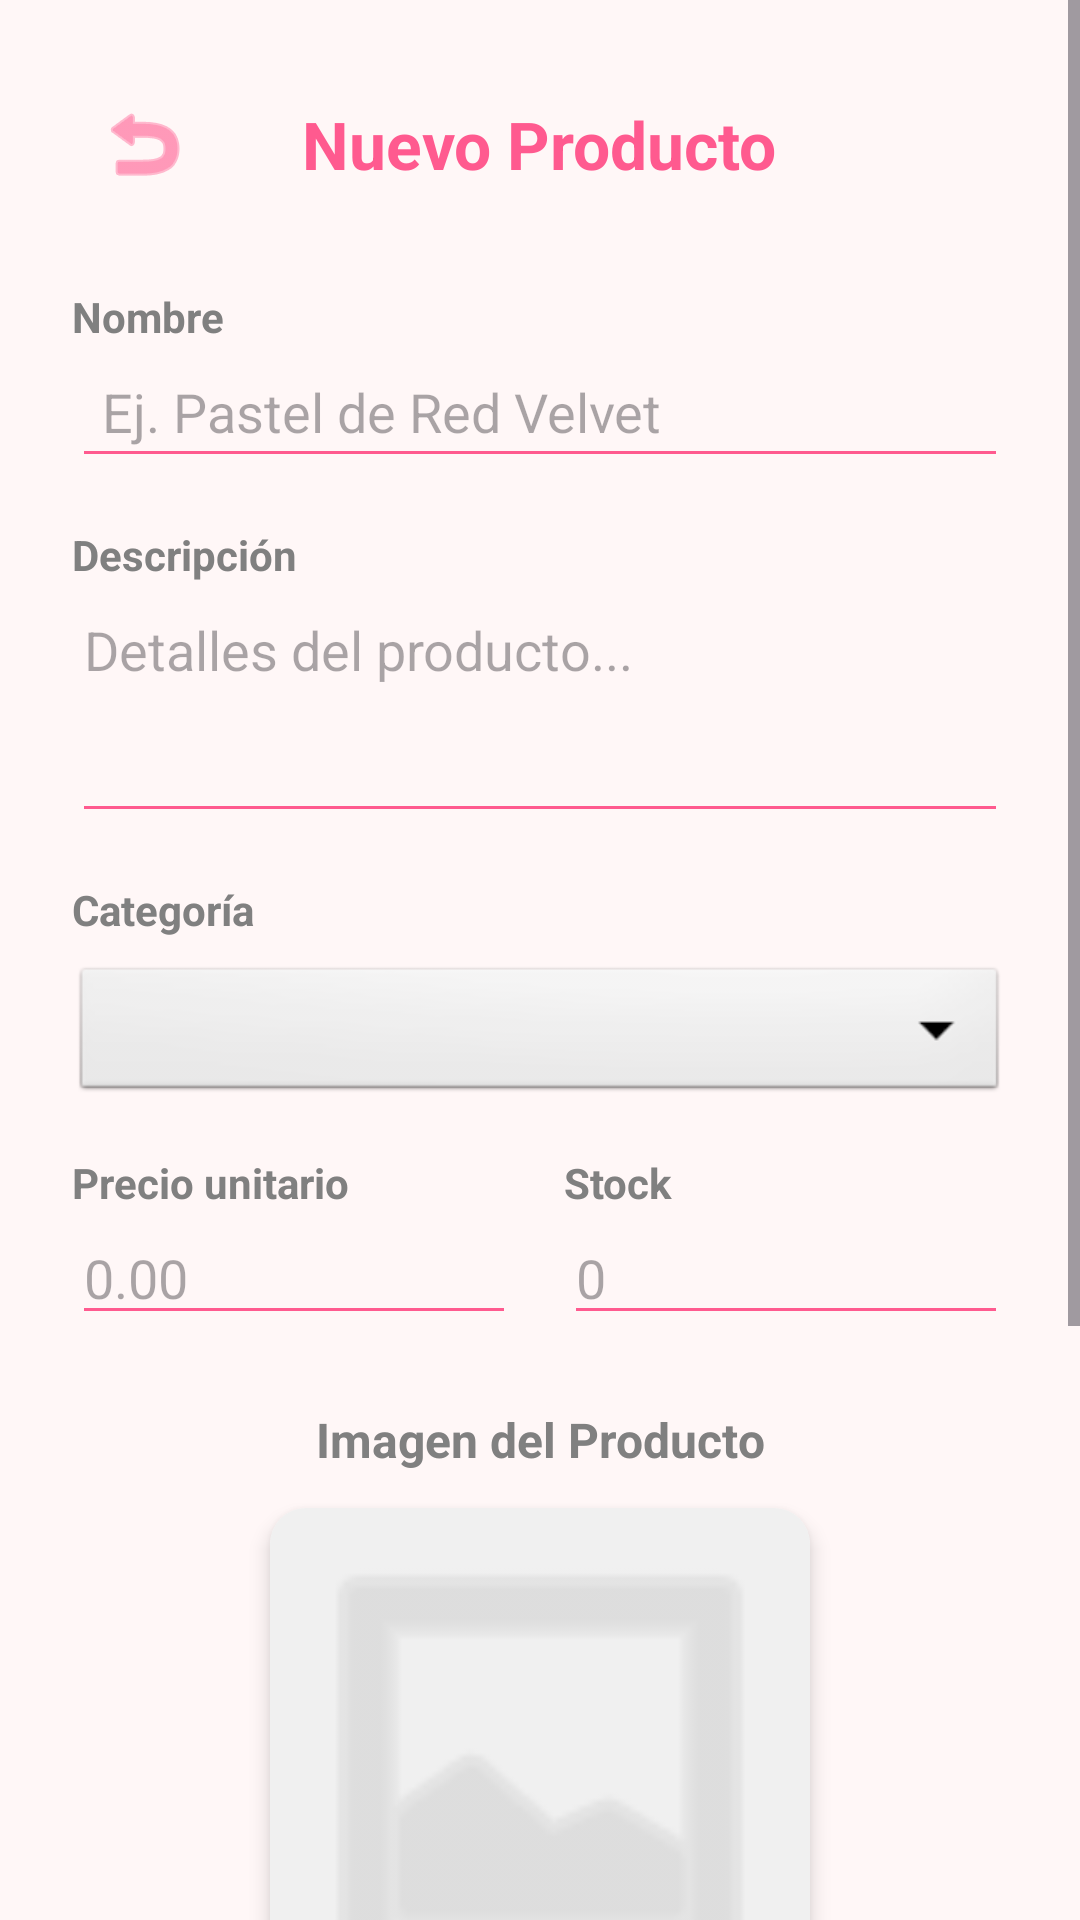

Icon click points for this 1080 × 1920 phone screenshot, format (x=x, y=y):
Regresar: (x=145, y=145)
